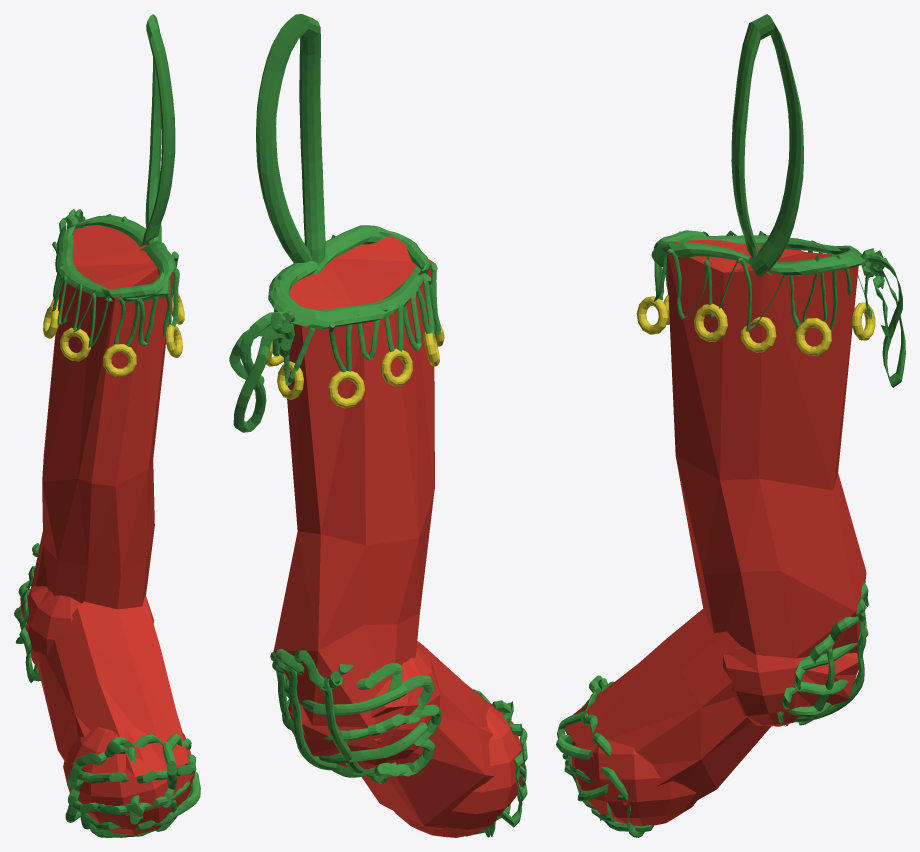
The picture shows the model from 3 angles, left to right: view 1: azimuth 30°, elevation 25°; view 2: azimuth 150°, elevation 25°; view 3: azimuth 270°, elevation 25°; orthographic projection. The views are drawn at different scales.
Visible parts, largest first — view 1: node_MeshObject736798912-PolyPaper10, node_MeshObject2056603392-PolyPaper10, node_MeshObject1221575296-PolyPaper10, node_MeshObject-2011733696-PolyPaper10, node_MeshObject1803296320-PolyPaper10; view 2: node_MeshObject736798912-PolyPaper10, node_MeshObject2056603392-PolyPaper10, node_MeshObject-2011733696-PolyPaper10, node_MeshObject1221575296-PolyPaper10; view 3: node_MeshObject736798912-PolyPaper10, node_MeshObject2056603392-PolyPaper10, node_MeshObject-2011733696-PolyPaper10, node_MeshObject1803296320-PolyPaper10, node_MeshObject1221575296-PolyPaper10.
Boxes of the visible parts, x1,y1,x2,y2 form: node_MeshObject736798912-PolyPaper10: [28, 14, 175, 609]; node_MeshObject2056603392-PolyPaper10: [15, 543, 194, 834]; node_MeshObject1221575296-PolyPaper10: [14, 606, 200, 837]; node_MeshObject-2011733696-PolyPaper10: [43, 209, 191, 831]; node_MeshObject1803296320-PolyPaper10: [65, 213, 179, 346]; node_MeshObject736798912-PolyPaper10: [256, 14, 440, 727]; node_MeshObject2056603392-PolyPaper10: [270, 327, 523, 837]; node_MeshObject-2011733696-PolyPaper10: [229, 230, 485, 836]; node_MeshObject1221575296-PolyPaper10: [332, 689, 527, 837]; node_MeshObject736798912-PolyPaper10: [651, 14, 866, 658]; node_MeshObject2056603392-PolyPaper10: [564, 275, 868, 826]; node_MeshObject-2011733696-PolyPaper10: [591, 230, 905, 837]; node_MeshObject1803296320-PolyPaper10: [653, 248, 887, 331]; node_MeshObject1221575296-PolyPaper10: [556, 675, 811, 809].
Size of the model in its own units: 0.3898 by 1.68 by 0.6255.
